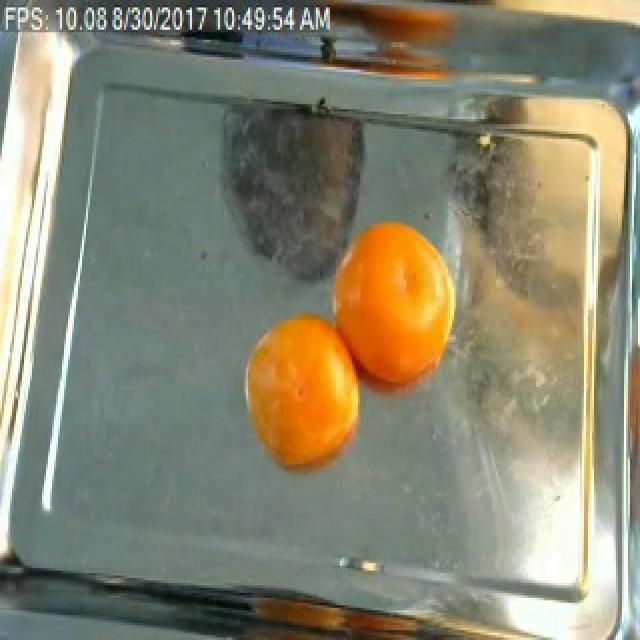Fruit: (212, 89, 384, 298), (316, 203, 468, 410), (232, 295, 374, 496)
